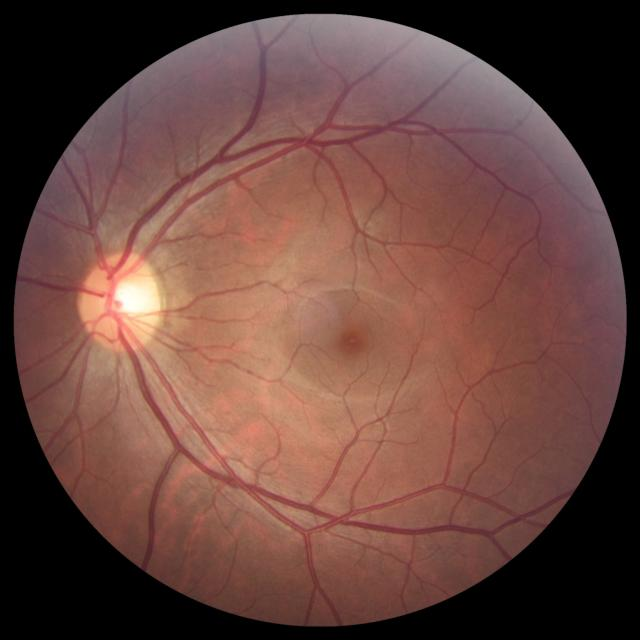OC: (104, 279, 147, 319)
OD: (79, 252, 163, 352)
